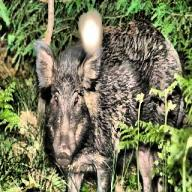boar: (33, 12, 185, 192)
